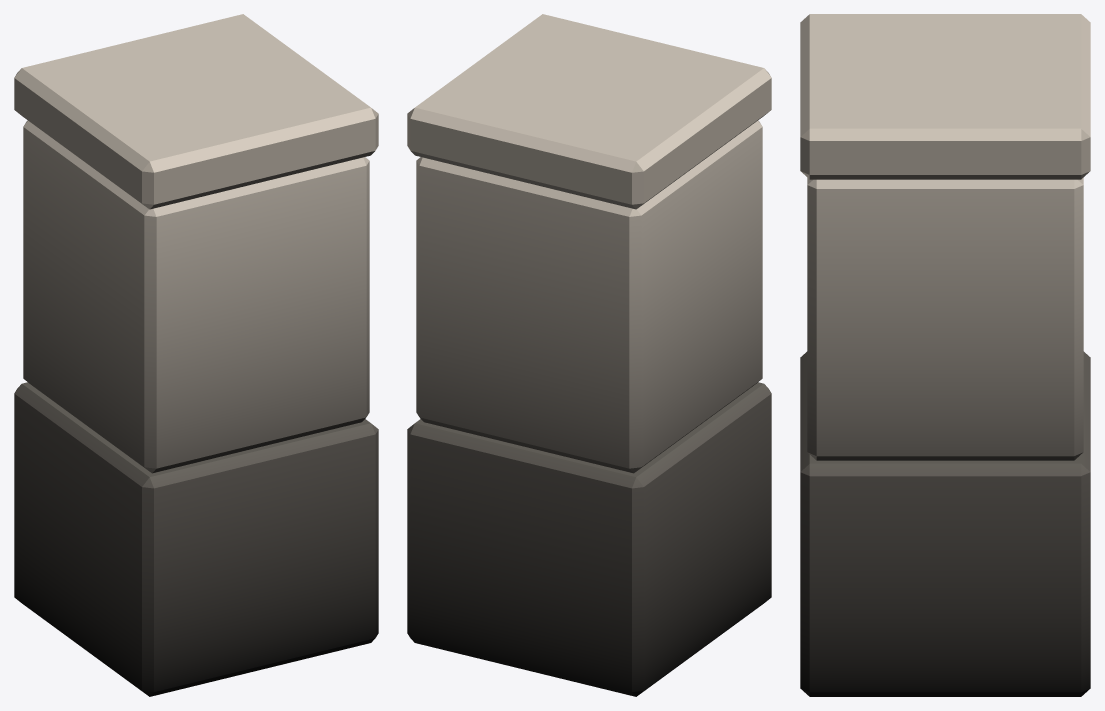
Rendered from SM_VKI_Post_Ancient_Corner_Cut.fbx.
The picture shows the model from 3 angles, left to right: view 1: azimuth 30°, elevation 25°; view 2: azimuth 150°, elevation 25°; view 3: azimuth 270°, elevation 25°; orthographic projection. The views are drawn at different scales.
Visible parts, largest first — view 1: SM_VKI_Post_Ancient_Corner_Cut.001; view 2: SM_VKI_Post_Ancient_Corner_Cut.001; view 3: SM_VKI_Post_Ancient_Corner_Cut.001.
Boxes of the visible parts, x1=… form: SM_VKI_Post_Ancient_Corner_Cut.001: x1=14, y1=14, x2=378, y2=696; SM_VKI_Post_Ancient_Corner_Cut.001: x1=407, y1=14, x2=771, y2=696; SM_VKI_Post_Ancient_Corner_Cut.001: x1=800, y1=14, x2=1090, y2=696.
Size of the model in its own units: 0.62 by 1.34 by 0.62.
